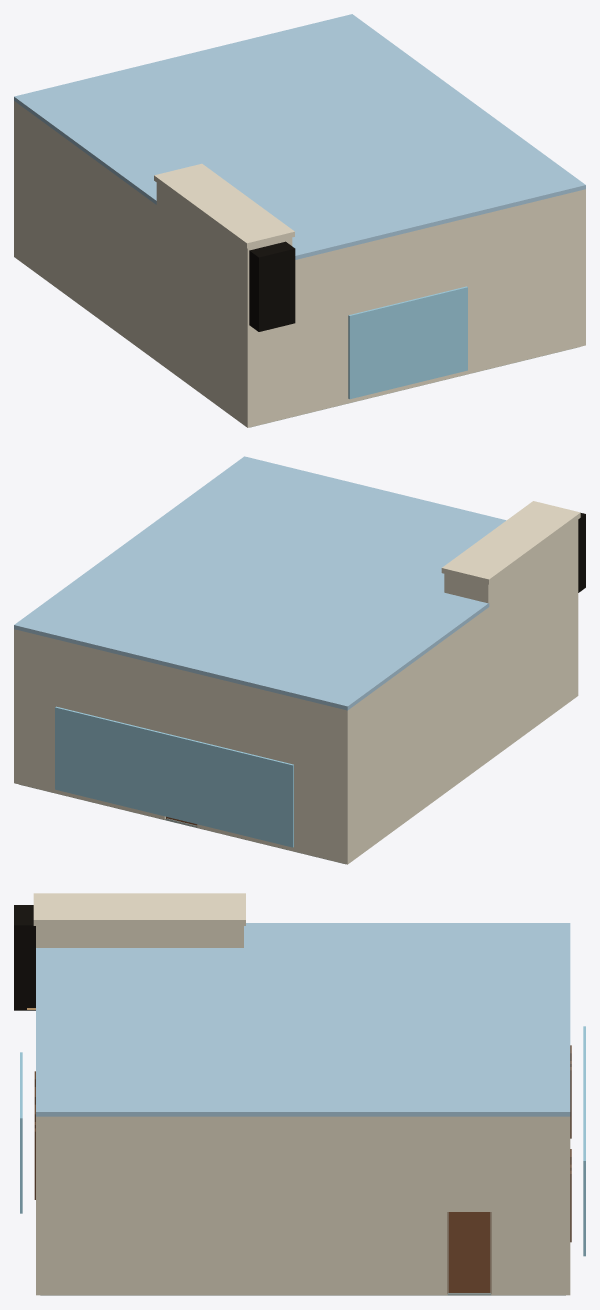
The model's file is room_kitchen.glb.
3 views of the same model, one above another, from view 1: azimuth 30°, elevation 25°; view 2: azimuth 150°, elevation 25°; view 3: azimuth 270°, elevation 25° (orthographic). The views are drawn at different scales.
Parts seen in each view (by area): view 1: WALLS, CEILING, SHAFT, VIEW_window, STAIRWELL; view 2: CEILING, WALLS, VIEW_window_s, SHAFT, STAIRWELL; view 3: CEILING, WALLS, SHAFT, DOOR_corridor, STAIRWELL, FRAMES, VIEW_window_s, FLOOR_visible.
Part boxes in pixels (bbox=[...]): WALLS: bbox=[14, 101, 585, 427]; CEILING: bbox=[14, 14, 585, 259]; SHAFT: bbox=[154, 163, 294, 323]; VIEW_window: bbox=[348, 286, 467, 399]; STAIRWELL: bbox=[249, 241, 295, 331]; CEILING: bbox=[14, 456, 506, 710]; WALLS: bbox=[14, 593, 578, 864]; VIEW_window_s: bbox=[55, 706, 293, 847]; SHAFT: bbox=[441, 501, 580, 658]; STAIRWELL: bbox=[578, 513, 585, 592]; CEILING: bbox=[36, 923, 570, 1116]; WALLS: bbox=[36, 1116, 570, 1295]; SHAFT: bbox=[33, 893, 245, 947]; DOOR_corridor: bbox=[448, 1212, 490, 1292]; STAIRWELL: bbox=[14, 905, 35, 1010]; FRAMES: bbox=[34, 1045, 571, 1293]; VIEW_window_s: bbox=[583, 1026, 585, 1256]; FLOOR_visible: bbox=[40, 1292, 565, 1295].
Size of the model in its own units: 10.25 by 5.41 by 13.06.
